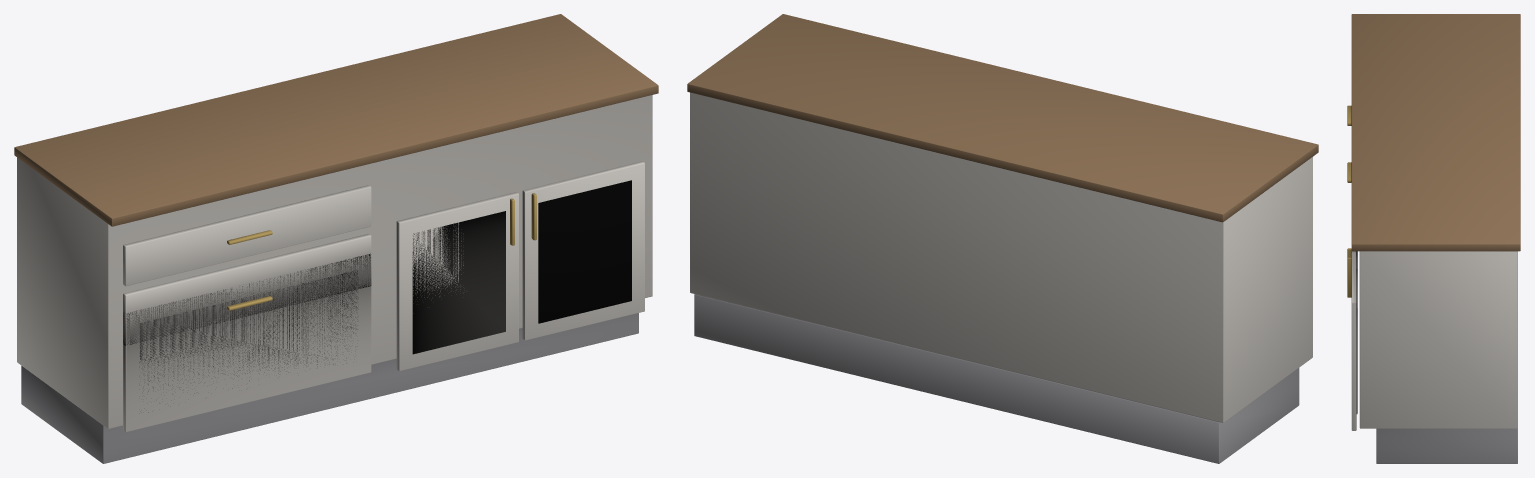
File: kitchen_run_2m.glb
3 views of the same model, side by side, from view 1: azimuth 30°, elevation 25°; view 2: azimuth 150°, elevation 25°; view 3: azimuth 270°, elevation 25° (orthographic). The views are drawn at different scales.
Visible parts, largest first — view 1: kitchen_run_2m; view 2: kitchen_run_2m; view 3: kitchen_run_2m.
Part boxes in pixels (box(x1,y1,x2,y2)): kitchen_run_2m: box(14, 14, 658, 463); kitchen_run_2m: box(687, 14, 1318, 463); kitchen_run_2m: box(1347, 14, 1520, 463).
Bounding box in the file's own units: 2 × 0.9 × 0.636.
